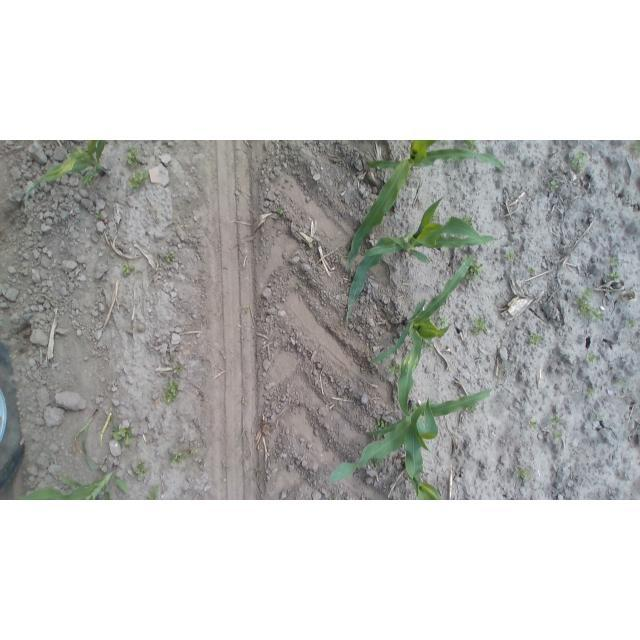Maize: (344, 140, 505, 273), (345, 197, 497, 330), (370, 250, 478, 419), (326, 384, 494, 488), (20, 141, 113, 214), (13, 460, 131, 501), (401, 396, 445, 501), (70, 403, 114, 471)
Weeds: (572, 288, 605, 323), (127, 169, 150, 191), (112, 425, 133, 447), (162, 380, 179, 405), (465, 264, 483, 285), (469, 316, 488, 335), (512, 464, 533, 481), (571, 151, 588, 171), (133, 461, 149, 482), (168, 449, 191, 463), (127, 146, 142, 167), (146, 484, 161, 500), (527, 332, 543, 346), (503, 249, 517, 264), (389, 362, 402, 377), (121, 264, 135, 277), (586, 351, 599, 365), (462, 140, 481, 149), (608, 270, 621, 283), (372, 456, 384, 470), (374, 418, 388, 430), (630, 140, 640, 156), (549, 180, 561, 193), (552, 430, 565, 442), (436, 315, 449, 326), (618, 377, 628, 391), (274, 205, 285, 217), (173, 362, 184, 374), (528, 418, 539, 430), (164, 252, 175, 264), (239, 428, 248, 442), (625, 318, 636, 329), (550, 415, 561, 426), (608, 257, 620, 267), (241, 303, 251, 315), (466, 404, 478, 414), (425, 340, 435, 352), (462, 215, 473, 225), (337, 251, 348, 261), (526, 266, 536, 275), (95, 212, 104, 221), (586, 387, 594, 397), (294, 283, 302, 292), (240, 398, 248, 407), (595, 412, 603, 421), (440, 140, 449, 145), (432, 214, 439, 220)
